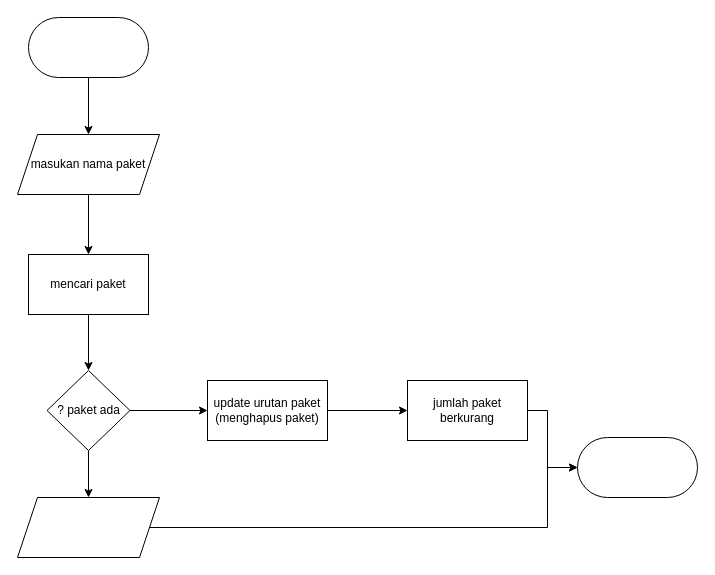
Image size: 715x575. Some labels were removed from this diagram. Here are the shapes that lost their labels. From the top down, the centre of each, then its label:
(x=88, y=47): Mulai
(x=637, y=467): Selesai
(x=88, y=527): "paket tidak ada"
